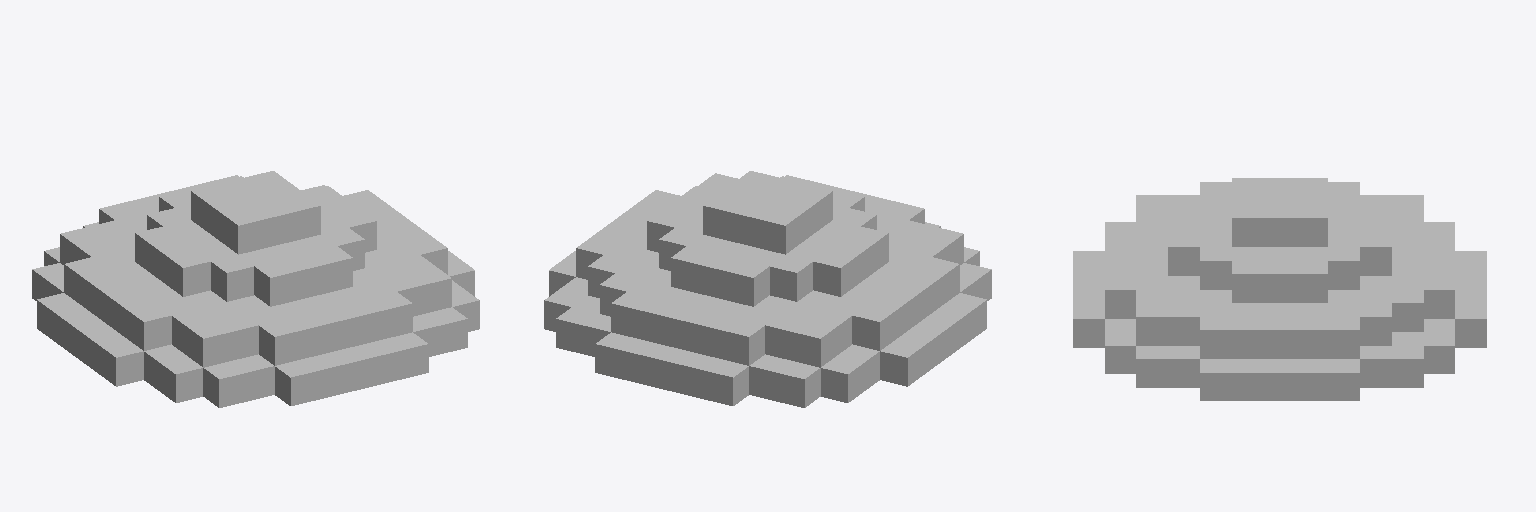
Rendered from Ballista Lower Part.obj.
3 views of the same model, side by side, from view 1: azimuth 30°, elevation 25°; view 2: azimuth 150°, elevation 25°; view 3: azimuth 270°, elevation 25° (orthographic).
Visible parts, largest first — view 1: object 1; view 2: object 1; view 3: object 1.
Part boxes in pixels (x1,y1,x2,y2): object 1: (32,171,479,407); object 1: (544,171,991,407); object 1: (1073,178,1486,400).
Size of the model in its own units: 1.3 by 0.4 by 1.3.